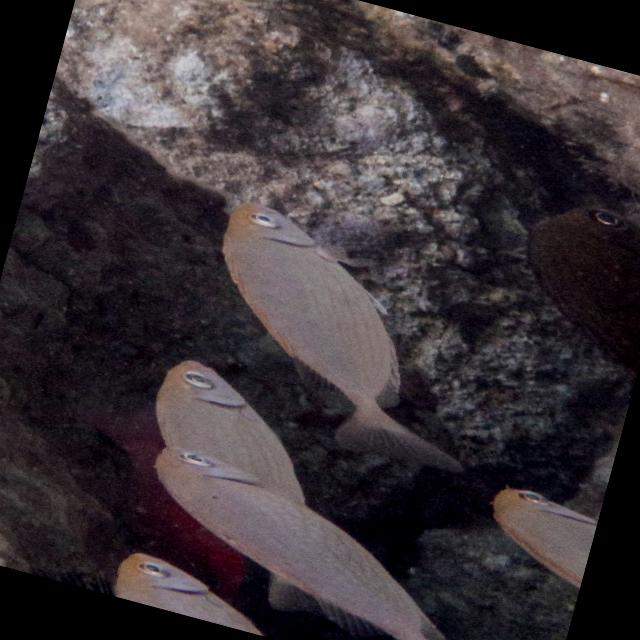Sokar Baligi: (160, 180, 528, 482)
